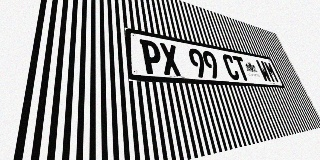9: (187, 47, 209, 78), (201, 50, 222, 79)
C: (221, 54, 241, 80)
M: (263, 61, 280, 83)
P: (139, 39, 164, 75)
T: (232, 55, 251, 81)
W: (255, 60, 272, 82)
X: (159, 42, 182, 76)
